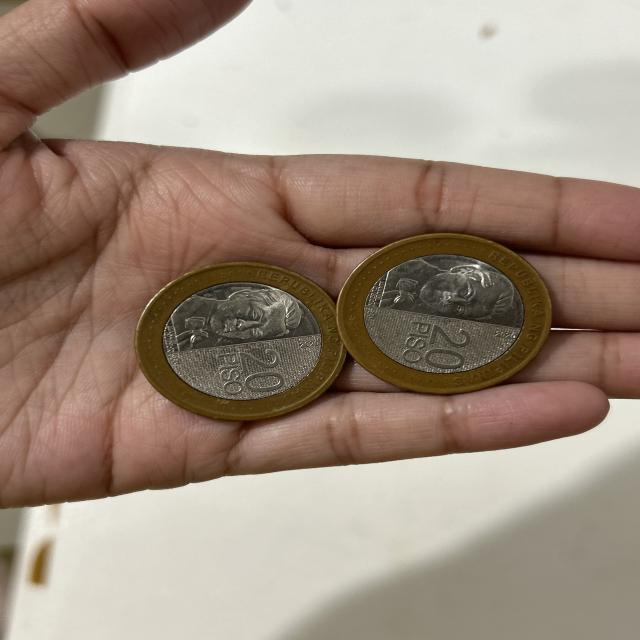20_New_Front: (397, 317, 477, 373), (212, 342, 288, 394)
